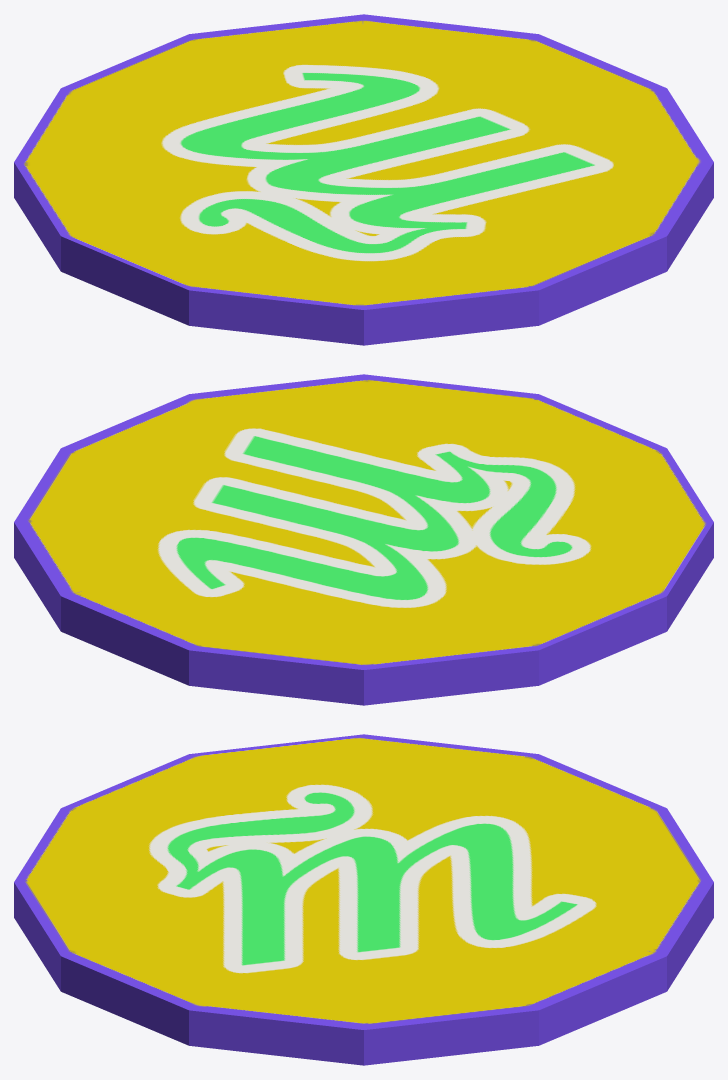
The model's file is podstavka 1.fbx.
3 renders of one model, top to bottom at view 1: azimuth 30°, elevation 25°; view 2: azimuth 150°, elevation 25°; view 3: azimuth 270°, elevation 25°, orthographic.
Visible parts, largest first — view 1: podstavka; view 2: podstavka; view 3: podstavka.
Part boxes in pixels (<box>): podstavka: <box>14,14,713,345</box>; podstavka: <box>14,374,713,705</box>; podstavka: <box>14,734,713,1065</box>.
Size of the model in its own units: 38.53 by 2.15 by 38.53.
1 material, 1 textured.
